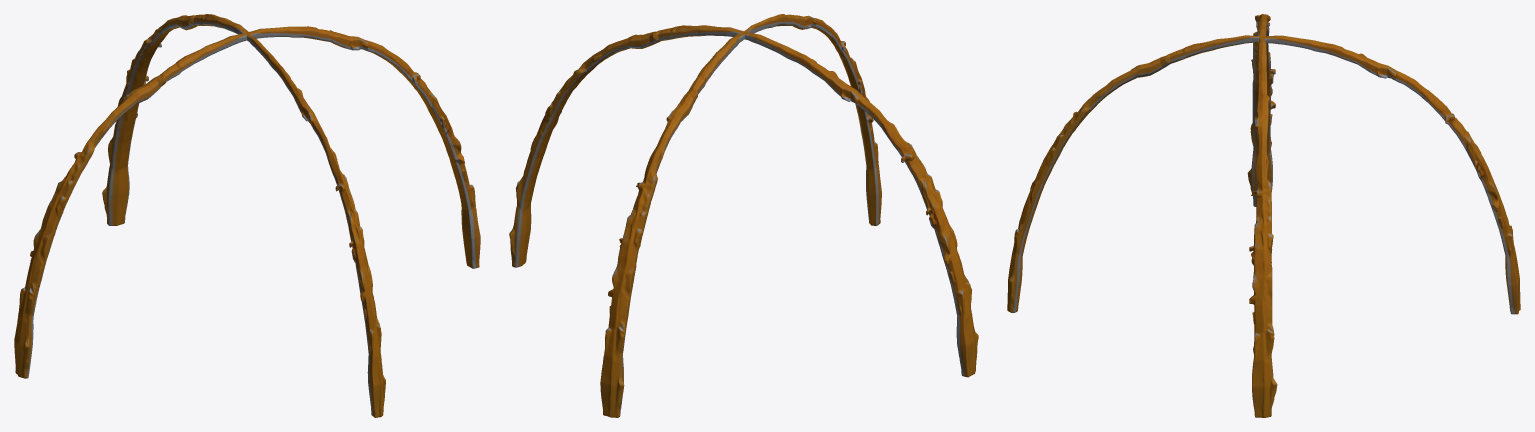
File: TheHut_Frame.glb
3 renders of one model, left to right at view 1: azimuth 30°, elevation 25°; view 2: azimuth 150°, elevation 25°; view 3: azimuth 270°, elevation 25°, orthographic. The views are drawn at different scales.
Visible parts, largest first — view 1: tripo_node_36431f24, tripo_node_36431f24.001, tripo_node_36431f24.003, tripo_node_36431f24.002; view 2: tripo_node_36431f24.002, tripo_node_36431f24, tripo_node_36431f24.001, tripo_node_36431f24.003; view 3: tripo_node_36431f24.001, tripo_node_36431f24.002, tripo_node_36431f24.003, tripo_node_36431f24.
Boxes of the visible parts, left/top/right/bottom form: tripo_node_36431f24: left=14, top=33, right=247, bottom=378; tripo_node_36431f24.001: left=246, top=26, right=480, bottom=268; tripo_node_36431f24.003: left=247, top=34, right=385, bottom=417; tripo_node_36431f24.002: left=102, top=14, right=248, bottom=225; tripo_node_36431f24.002: left=600, top=33, right=744, bottom=417; tripo_node_36431f24: left=743, top=32, right=978, bottom=377; tripo_node_36431f24.001: left=509, top=25, right=745, bottom=267; tripo_node_36431f24.003: left=744, top=14, right=881, bottom=225; tripo_node_36431f24.001: left=1249, top=37, right=1277, bottom=417; tripo_node_36431f24.002: left=1265, top=35, right=1520, bottom=314; tripo_node_36431f24.003: left=1007, top=35, right=1260, bottom=312; tripo_node_36431f24: left=1247, top=14, right=1275, bottom=206.
Size of the model in its own units: 5.38 by 3.22 by 5.43.
1 material, 1 textured.
